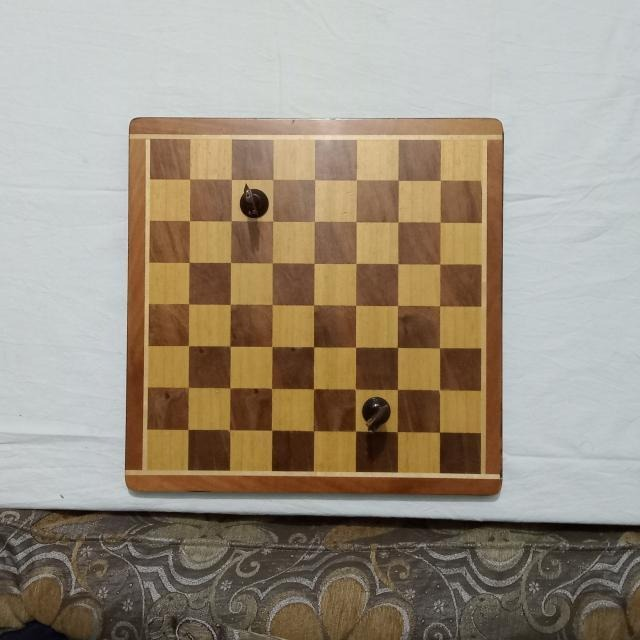black-knight: (361, 393, 393, 434), (238, 184, 268, 219)
